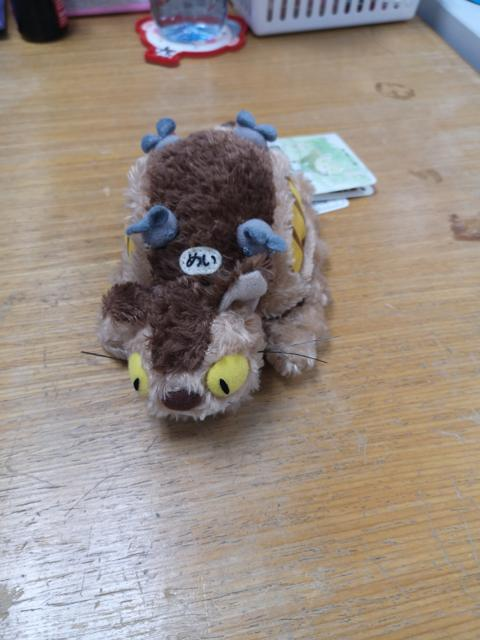nekobus: (74, 104, 345, 431)
